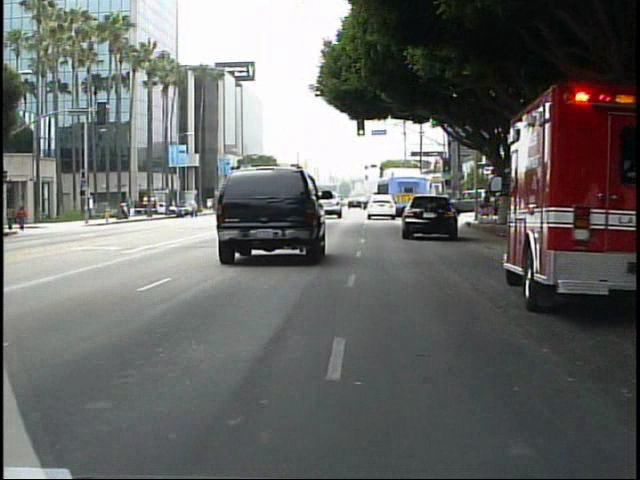person: (6, 203, 19, 232), (19, 203, 31, 234)
